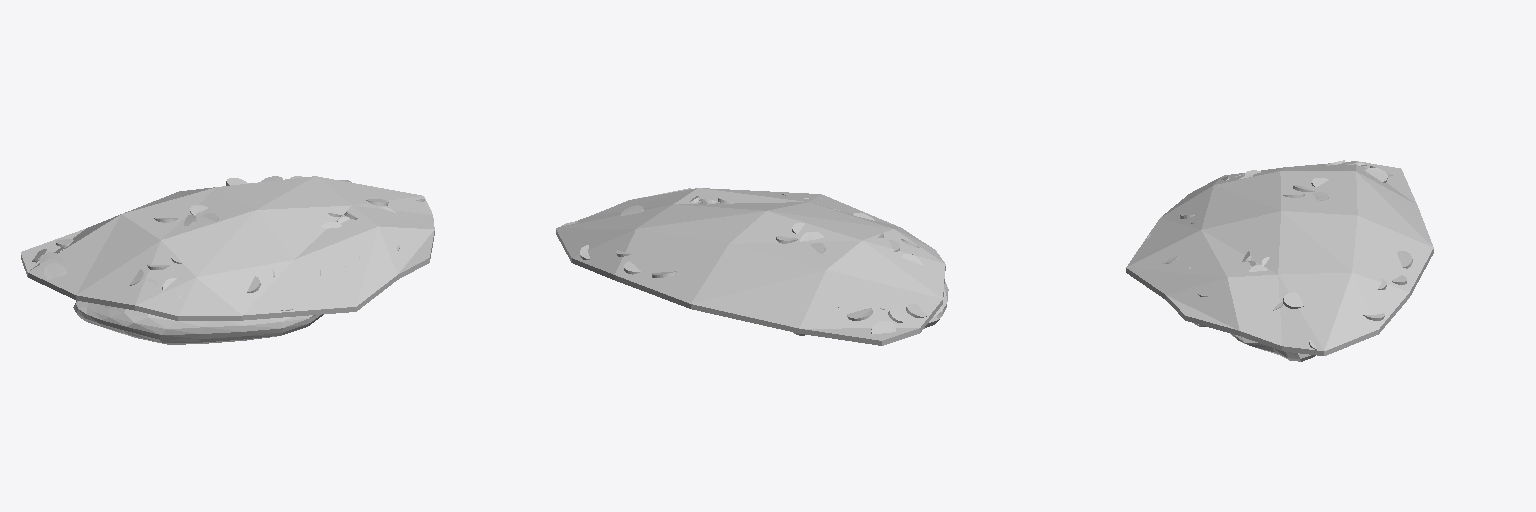
File: money pile low.obj
3 renders of one model, left to right at view 1: azimuth 30°, elevation 25°; view 2: azimuth 150°, elevation 25°; view 3: azimuth 270°, elevation 25°, orthographic.
Parts seen in each view (by area): view 1: Plane, Sphere, Cylinder.004_Cylinder.012; view 2: Plane, Cylinder.004_Cylinder.012; view 3: Plane, Cylinder.004_Cylinder.012.
Boxes of the visible parts, x1=… form: Plane: x1=21, y1=176, x2=434, y2=320; Sphere: x1=73, y1=301, x2=323, y2=344; Cylinder.004_Cylinder.012: x1=32, y1=176, x2=424, y2=310; Plane: x1=556, y1=188, x2=945, y2=345; Cylinder.004_Cylinder.012: x1=562, y1=193, x2=926, y2=335; Plane: x1=1126, y1=161, x2=1433, y2=355; Cylinder.004_Cylinder.012: x1=1147, y1=160, x2=1412, y2=349.
Bounding box in the file's own units: 7.79 × 1.78 × 5.46.